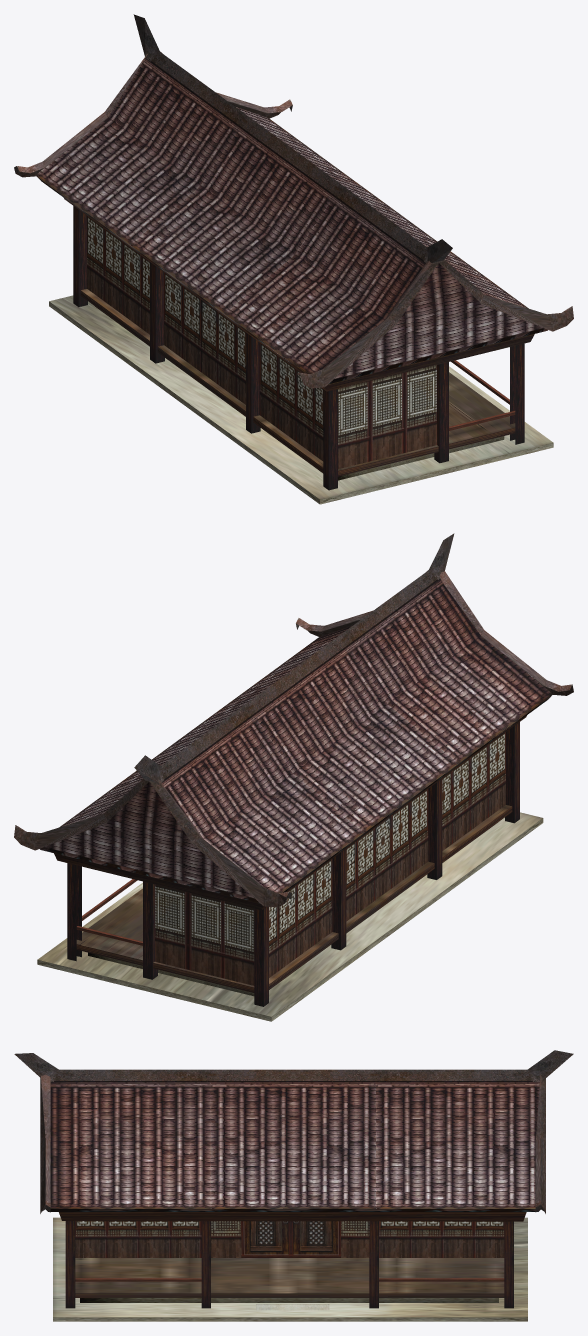
Rendered from ob-033-guesthouse-02_lod_01.fbx.
3 views of the same model, one above another, from view 1: azimuth 30°, elevation 25°; view 2: azimuth 150°, elevation 25°; view 3: azimuth 270°, elevation 25° (orthographic). The views are drawn at different scales.
Visible parts, largest first — view 1: ob-033-guesthouse-01, ob-033-guesthouse-02; view 2: ob-033-guesthouse-01, ob-033-guesthouse-02; view 3: ob-033-guesthouse-01, ob-033-guesthouse-02.
Boxes of the visible parts, x1,y1,x2,y2 form: ob-033-guesthouse-01: (14, 14, 573, 480); ob-033-guesthouse-02: (49, 198, 553, 504); ob-033-guesthouse-01: (14, 533, 573, 996); ob-033-guesthouse-02: (37, 715, 543, 1021); ob-033-guesthouse-01: (14, 1050, 573, 1310); ob-033-guesthouse-02: (53, 1212, 527, 1321).
Bounding box in the file's own units: 13.56 × 11.86 × 27.45.
